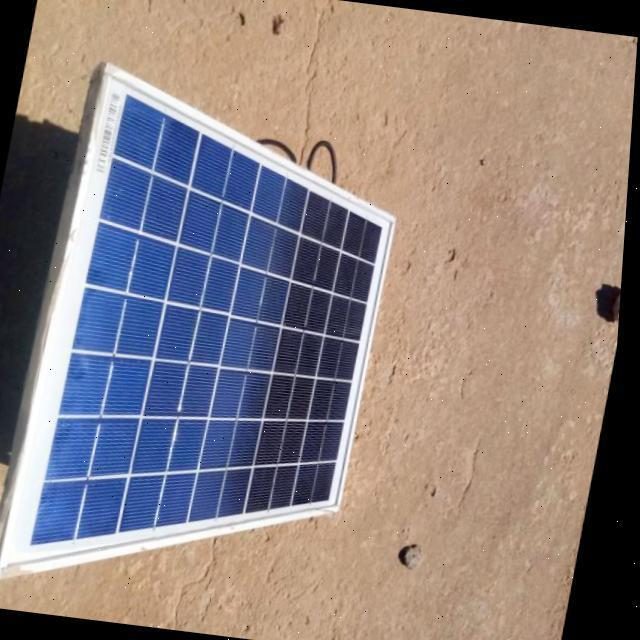Normal Solar Panel: (0, 63, 417, 621)
